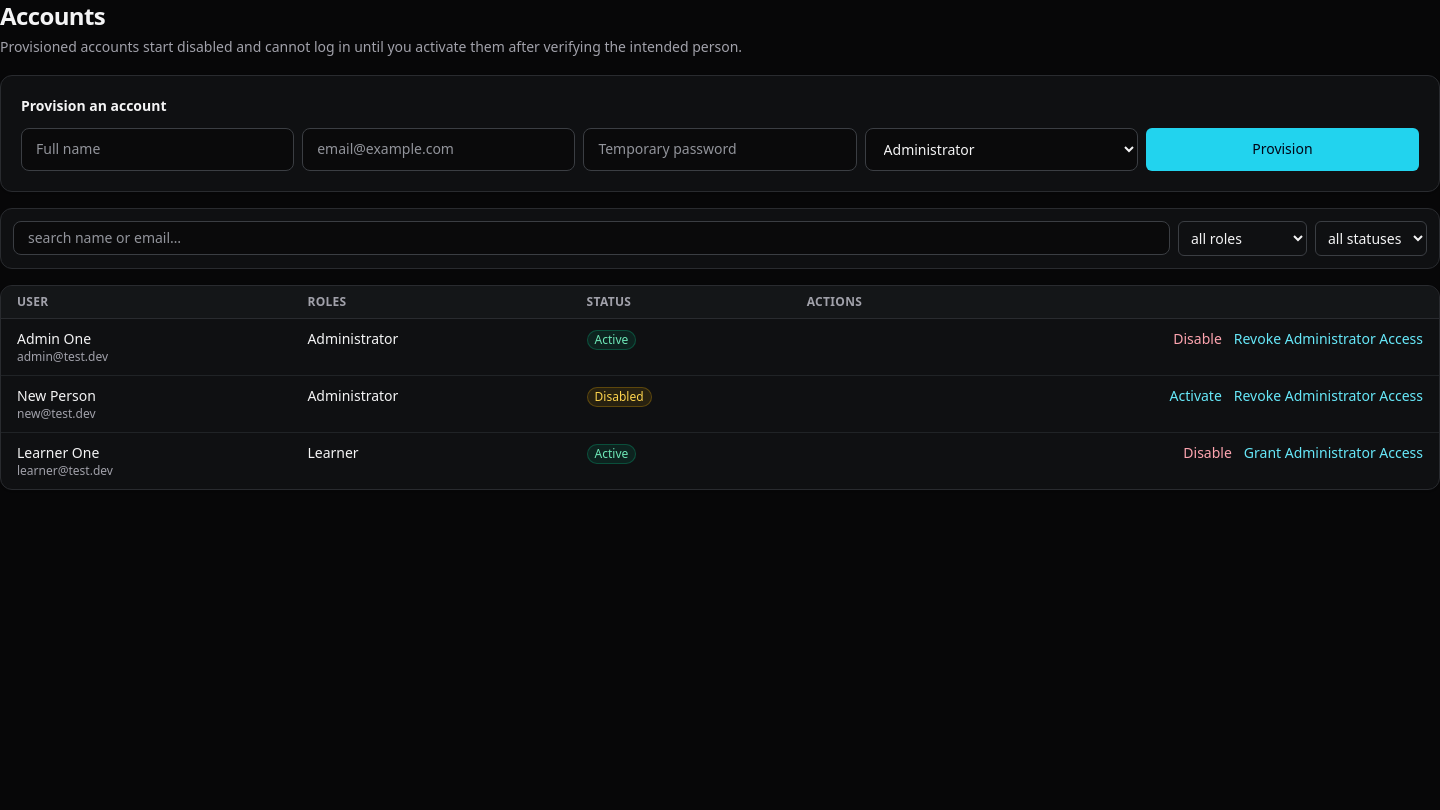
Scenario: AdminAccountsPage › requires confirmation before granting Administrator access and refreshes the list
Click the button "Grant Administrator Access": (1333, 453) x1=1244 y1=443 x2=1423 y2=463
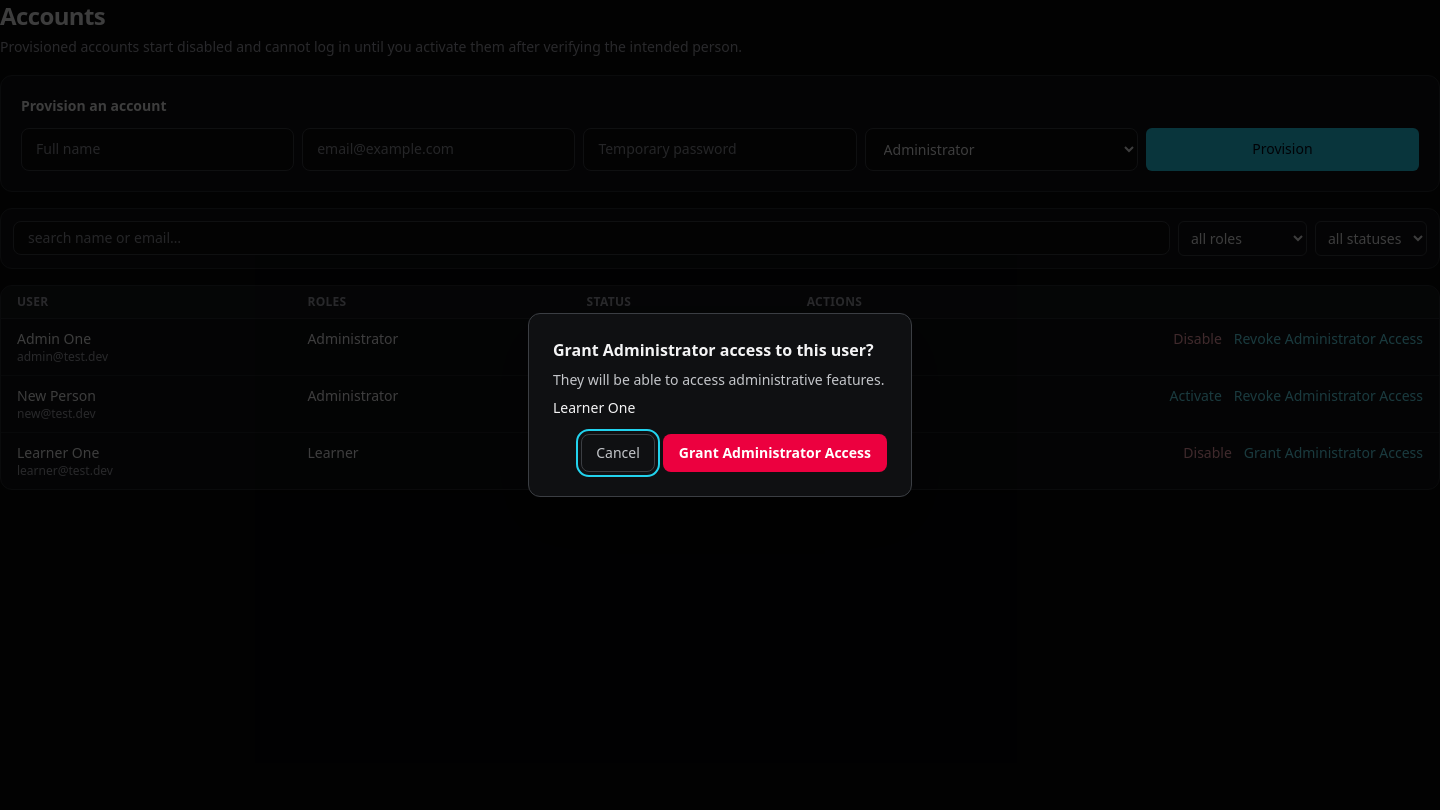
Now the dialog "Grant Administrator access to this user?" shows "They will be able to access administrative features.", box x1=553 y1=370 x2=884 y2=389
Click the button "Grant Administrator Access": (775, 453) x1=663 y1=434 x2=887 y2=472
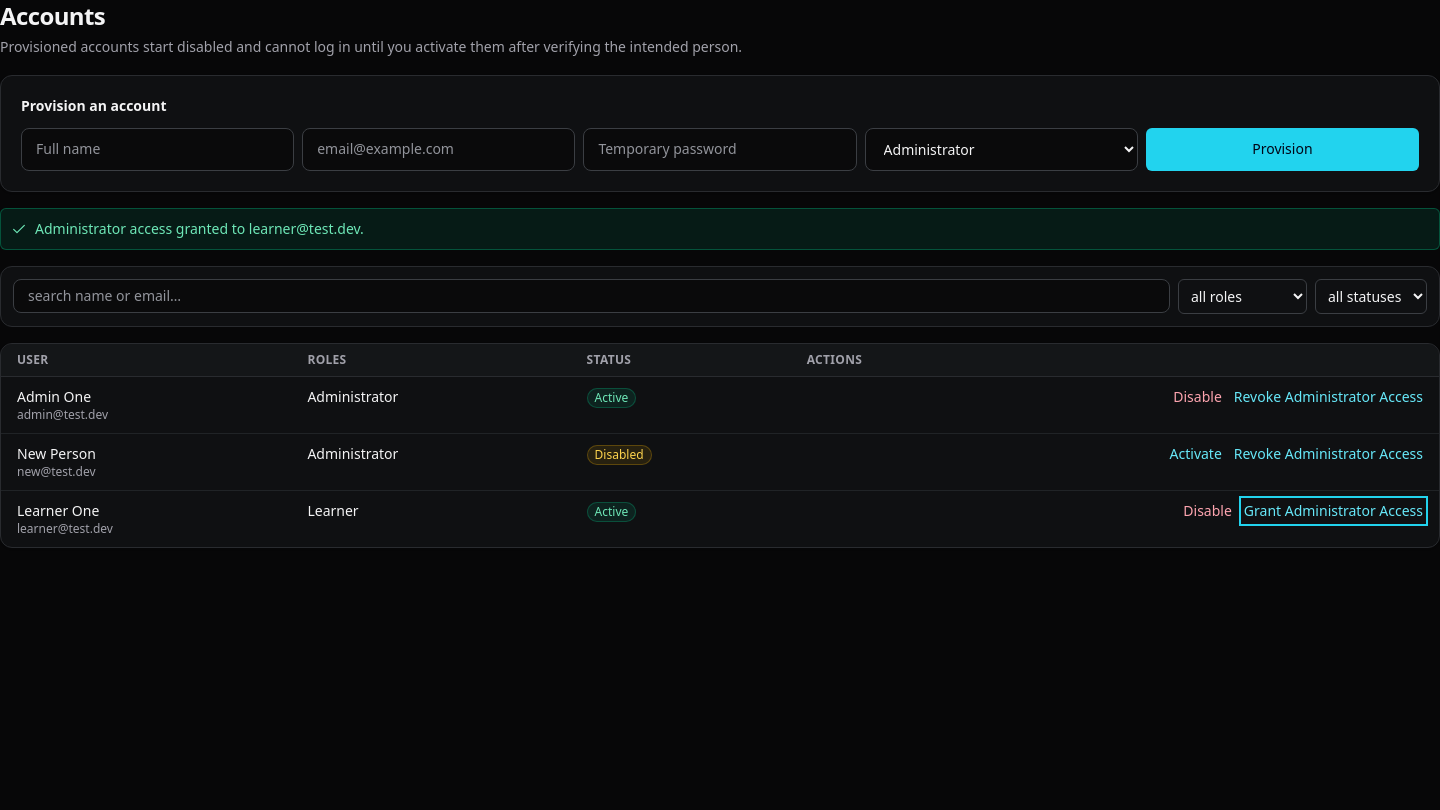
Now the message reads "Administrator access granted to learner@test.dev.", box x1=35 y1=219 x2=364 y2=238
